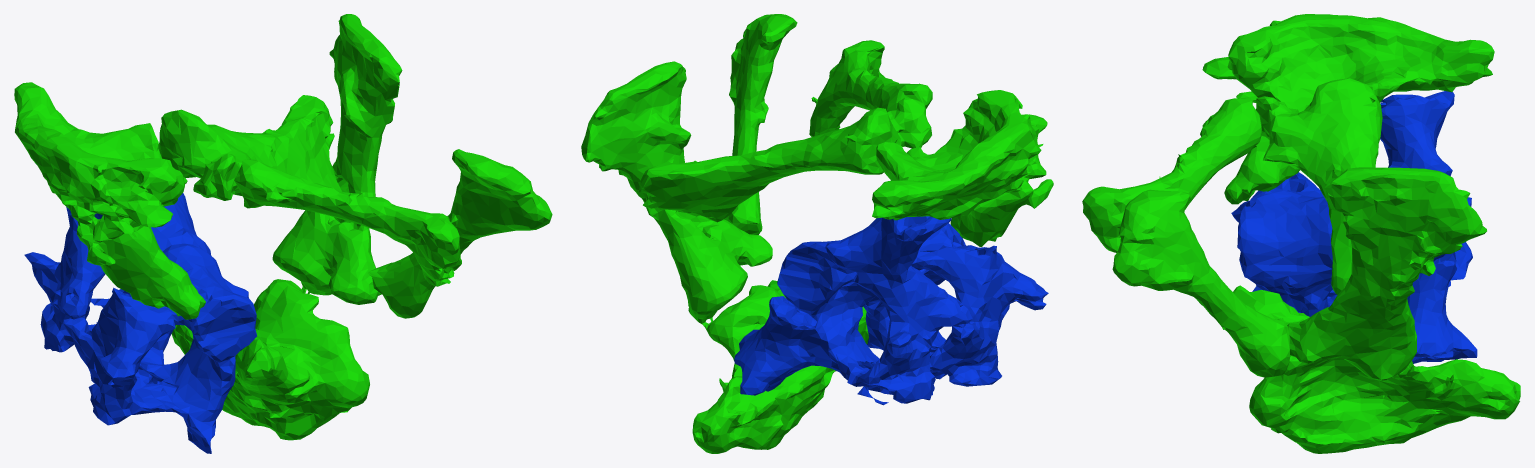
File: sacrum_pelvis2.glb
3 renders of one model, left to right at view 1: azimuth 30°, elevation 25°; view 2: azimuth 150°, elevation 25°; view 3: azimuth 270°, elevation 25°, orthographic. The views are drawn at different scales.
Parts seen in each view (by area): view 1: Shape_IndexedFaceSet, Shape_IndexedFaceSet.001; view 2: Shape_IndexedFaceSet, Shape_IndexedFaceSet.001; view 3: Shape_IndexedFaceSet, Shape_IndexedFaceSet.001.
Boxes of the visible parts, left/top/right/bottom form: Shape_IndexedFaceSet: left=14, top=14, right=552, bottom=440; Shape_IndexedFaceSet.001: left=24, top=163, right=256, bottom=453; Shape_IndexedFaceSet: left=581, top=14, right=1053, bottom=453; Shape_IndexedFaceSet.001: left=734, top=216, right=1048, bottom=405; Shape_IndexedFaceSet: left=1082, top=14, right=1520, bottom=453; Shape_IndexedFaceSet.001: left=1231, top=91, right=1477, bottom=363.
Bounding box in the file's own units: 0.0153 × 0.0129 × 0.0153.
